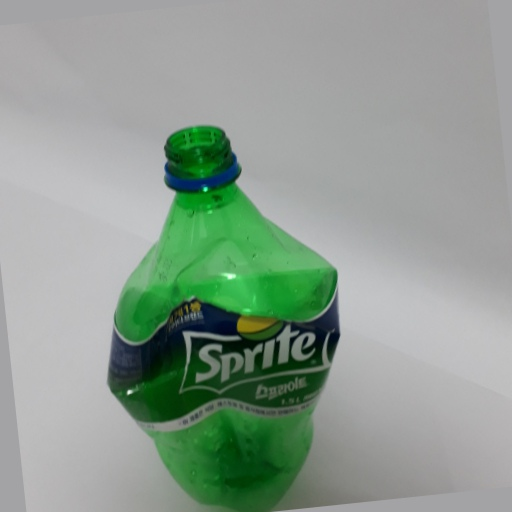Plastic_0: (105, 119, 345, 512)
